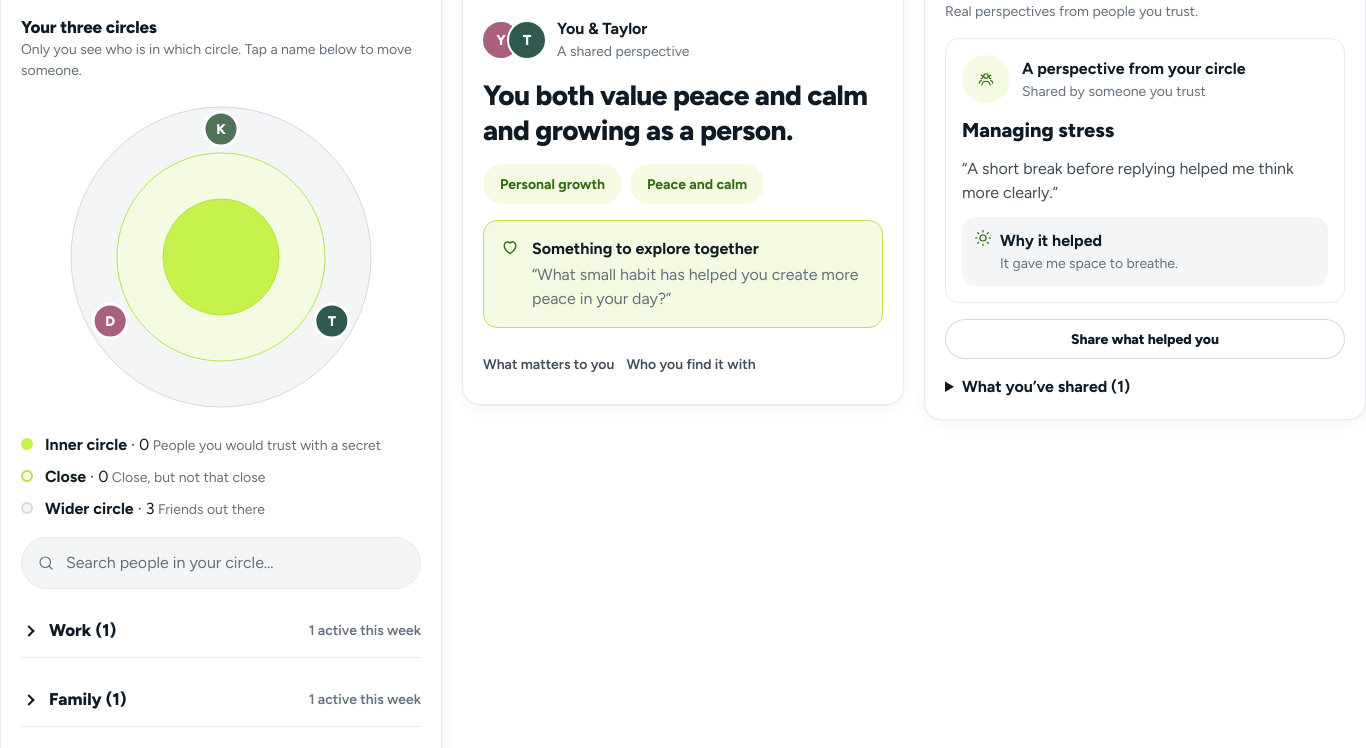
Test: the connect page › says when new Common Ground tags can be added
The image size is (1366, 748).
(page scrolled)
Click the button "What matters to you": (549, 364) [483,344,614,384]
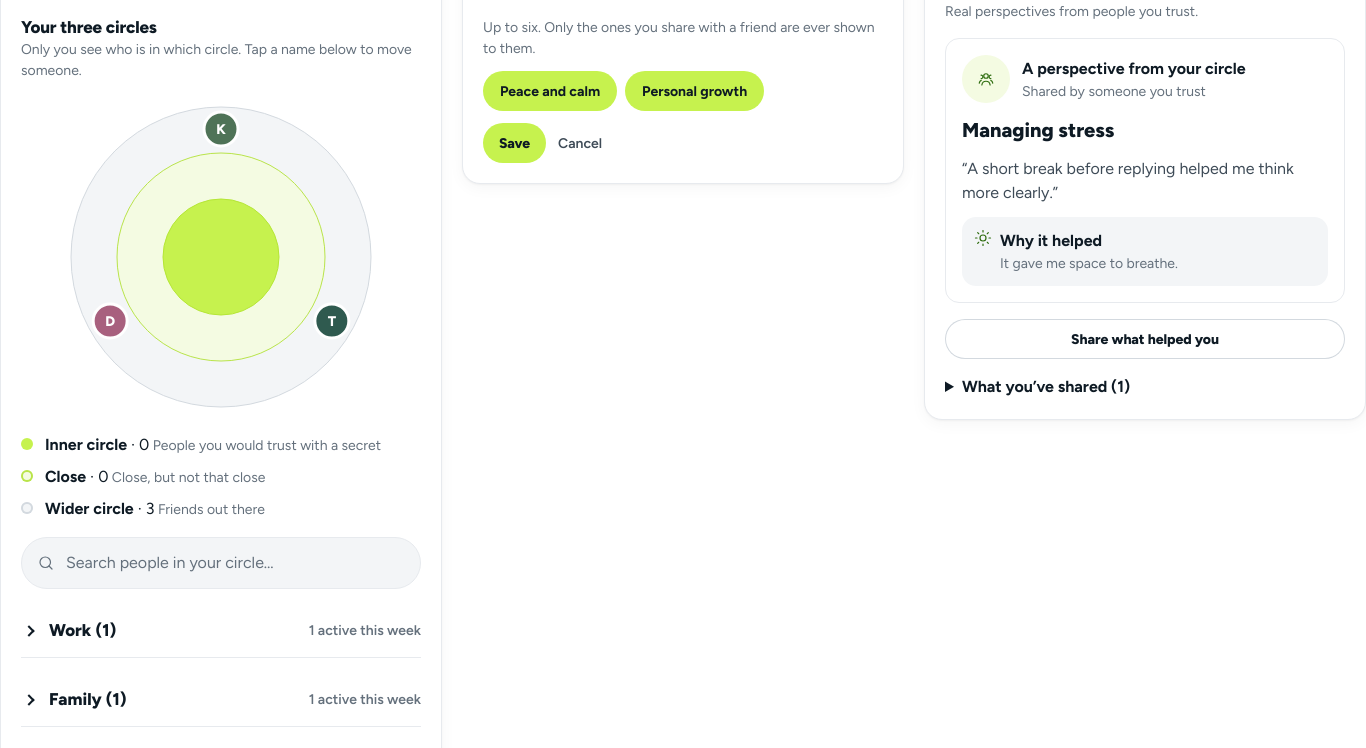
Click the button "Personal growth": (695, 91) [625,71,764,111]
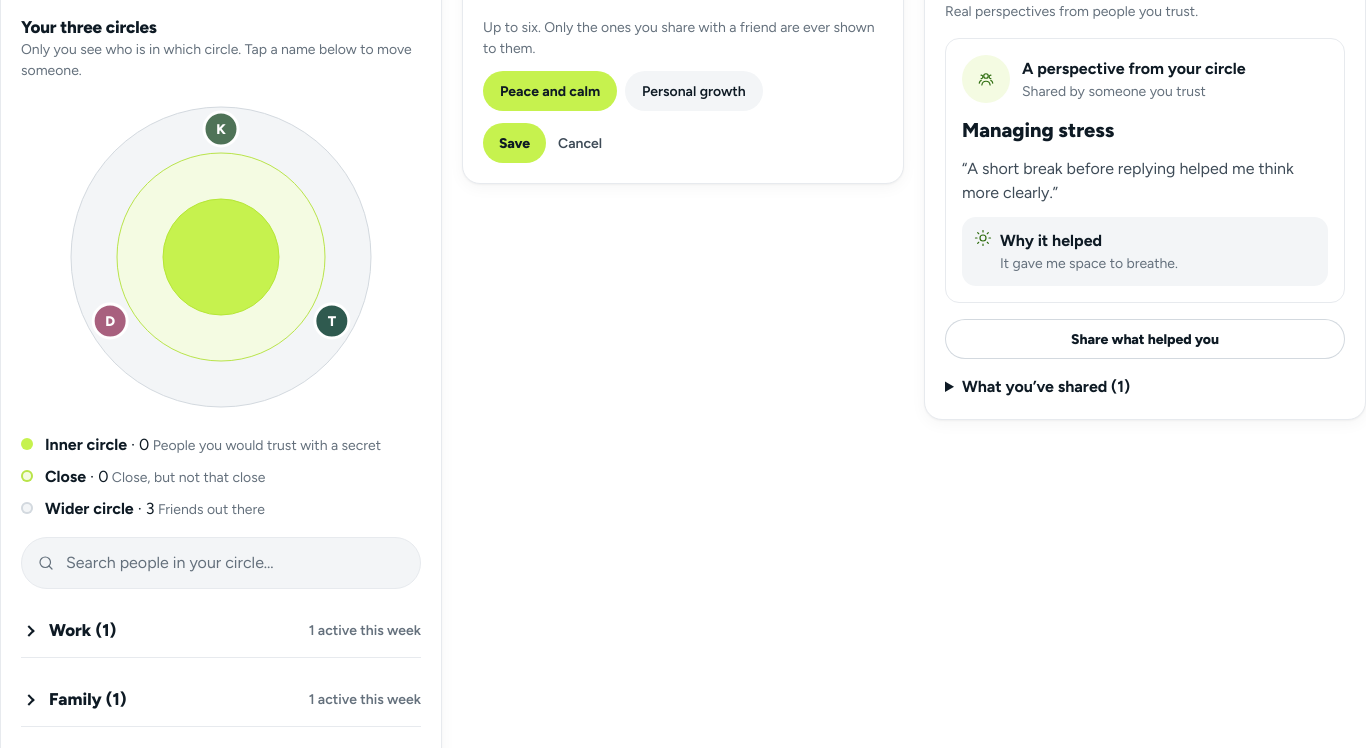
Click the button "Save": (515, 143) [483,123,546,163]
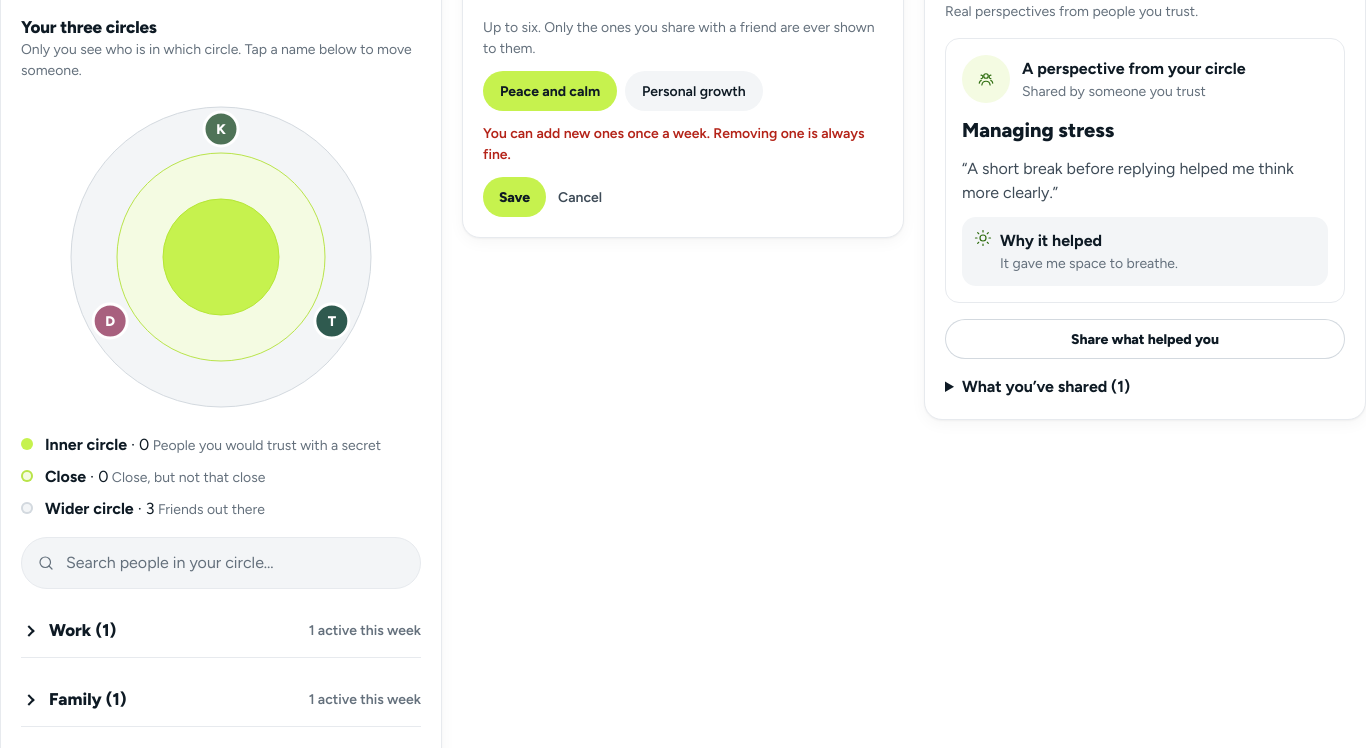
Check: the message shows "once a week", box [483,125,864,163]
